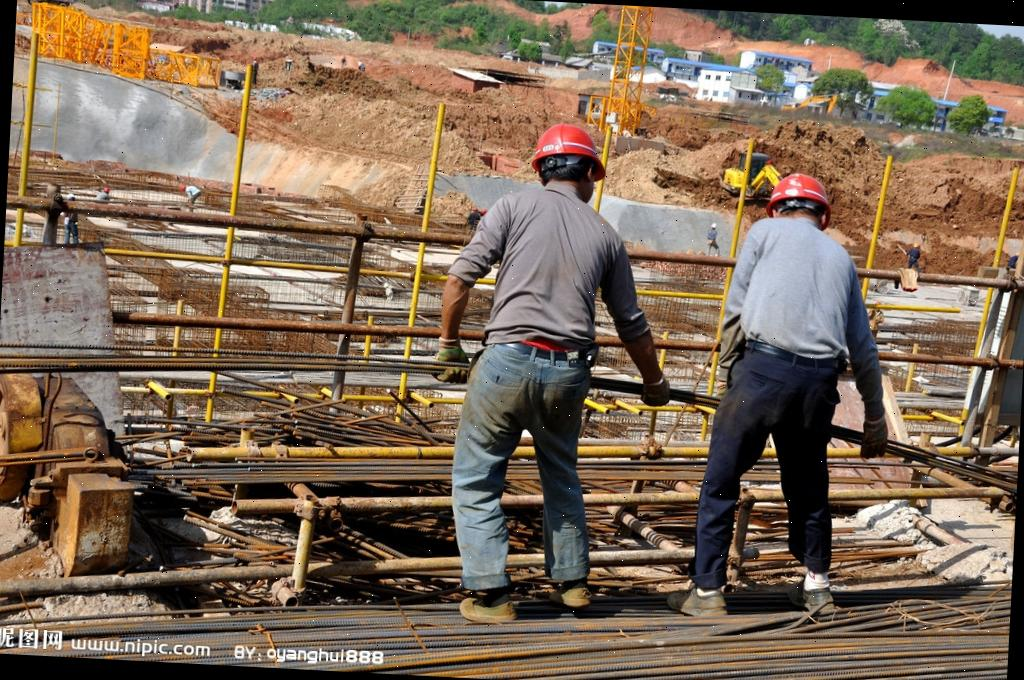helmet: (528, 120, 608, 174), (767, 170, 835, 212)
no_wear: (470, 190, 638, 354), (729, 216, 871, 366)
